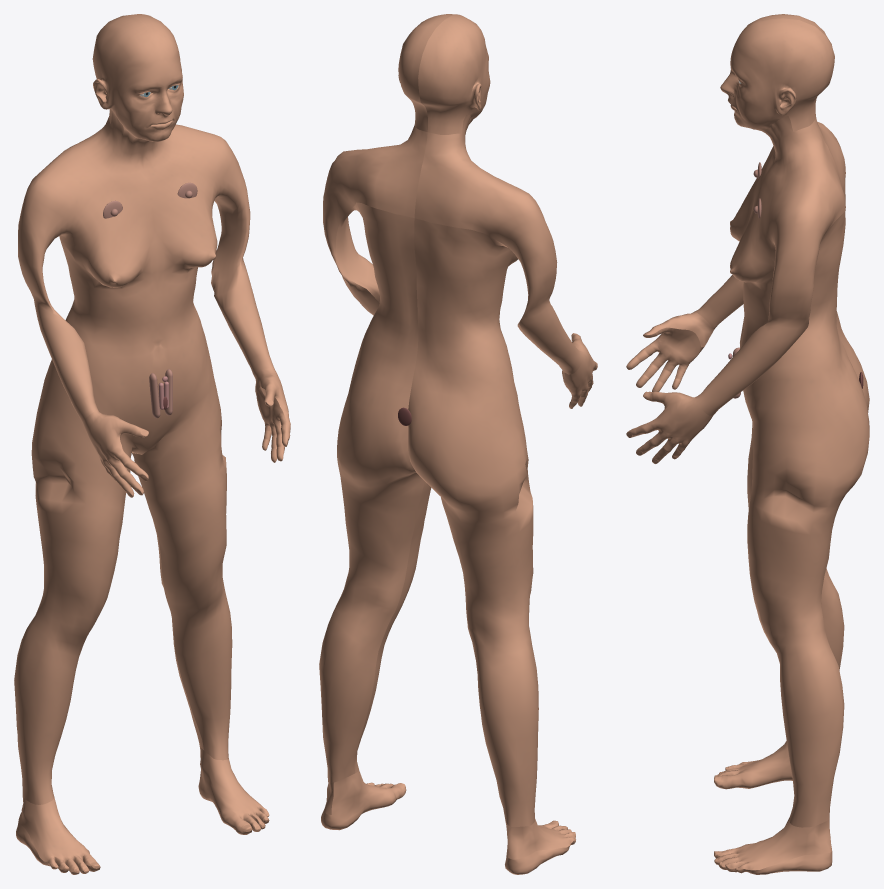
The model's file is body-senior-weiblich-real-v3.glb.
3 renders of one model, left to right at view 1: azimuth 30°, elevation 25°; view 2: azimuth 150°, elevation 25°; view 3: azimuth 270°, elevation 25°, orthographic.
Visible parts, largest first — view 1: real-human-body; view 2: real-human-body; view 3: real-human-body.
Part boxes in pixels (x1,y1,x2,y2): real-human-body: [14, 14, 290, 874]; real-human-body: [319, 14, 597, 874]; real-human-body: [626, 14, 869, 874].
Size of the model in its own units: 0.4717 by 1.65 by 0.4512.
8 materials, 1 textured.
